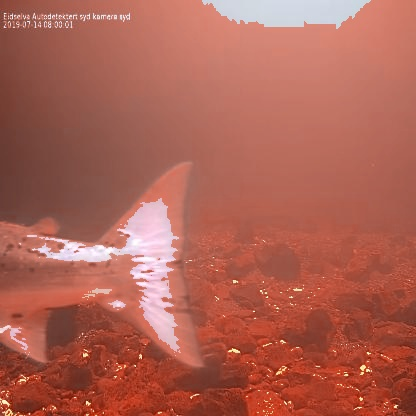salmon: (0, 159, 207, 371)
